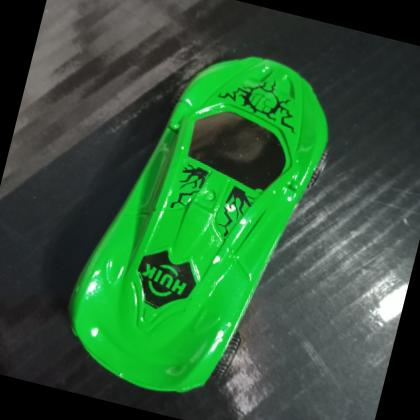Car: (39, 12, 357, 420)
